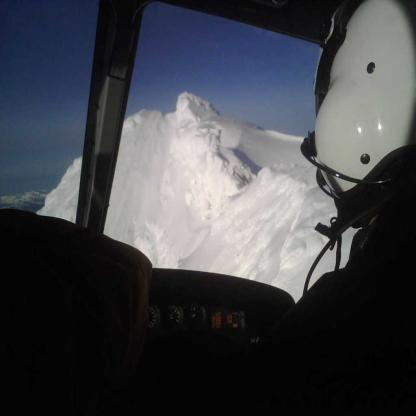Helmet: (301, 0, 415, 268)
